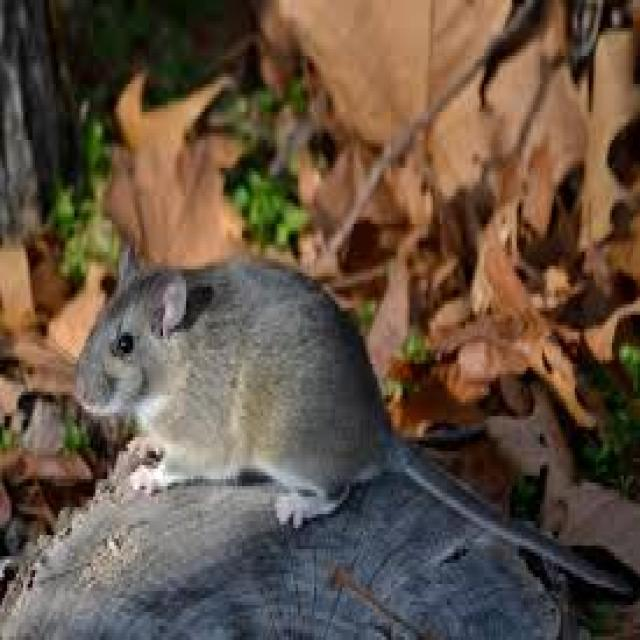Rat: (48, 183, 601, 554)
